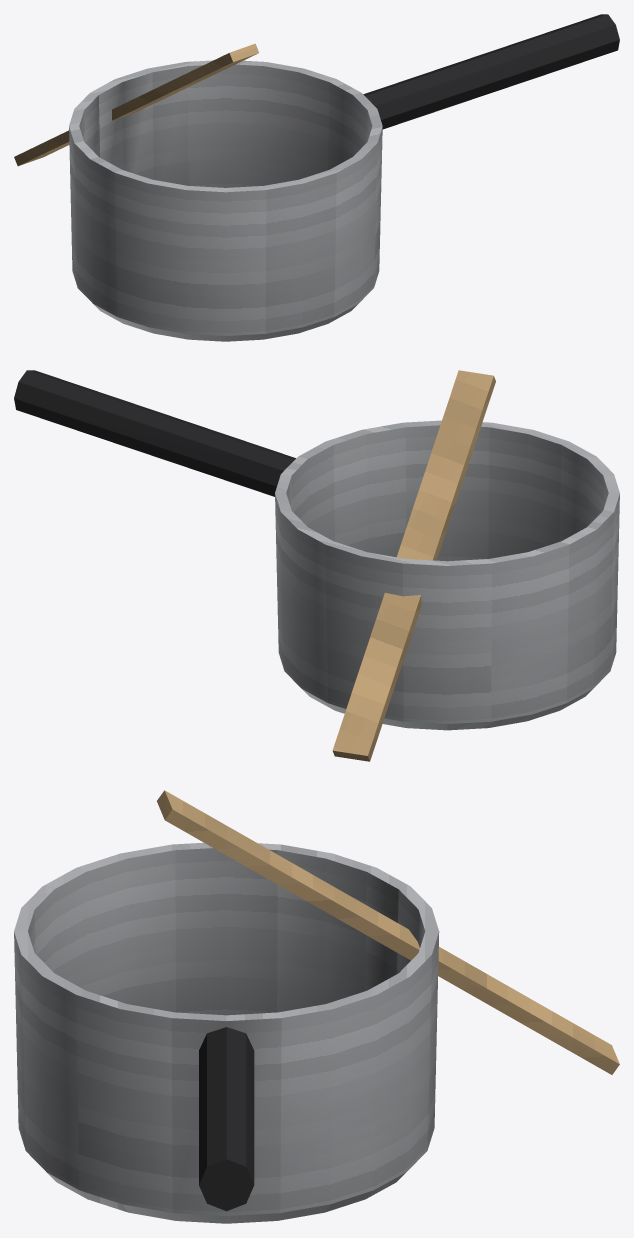
Rendered from pot_crusted.glb.
The picture shows the model from 3 angles, top to bottom: view 1: azimuth 30°, elevation 25°; view 2: azimuth 150°, elevation 25°; view 3: azimuth 270°, elevation 25°; orthographic projection. The views are drawn at different scales.
Parts seen in each view (by area): view 1: body; view 2: body; view 3: body.
Part boxes in pixels (<box>): body: <box>14,14,619,341</box>; body: <box>14,370,619,761</box>; body: <box>14,790,619,1223</box>.
Size of the model in its own units: 0.3531 by 0.1613 by 0.2622.
4 materials, 2 textured.
